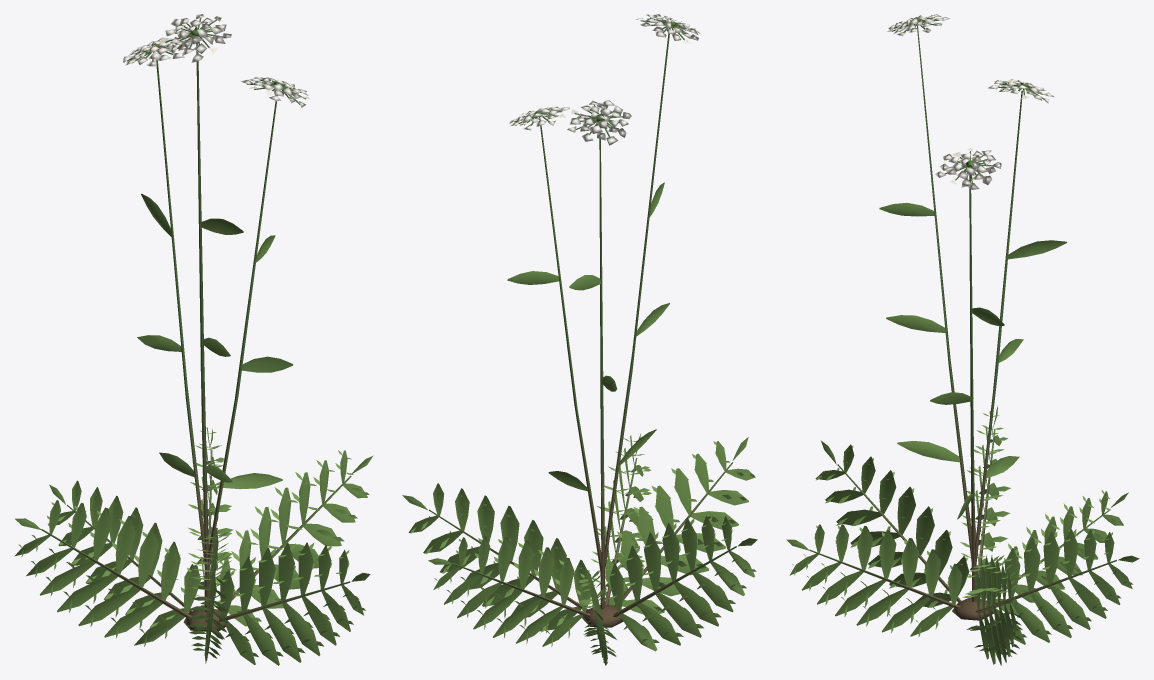
Rendered from Yarrow_lod2.glb.
3 views of the same model, side by side, from view 1: azimuth 30°, elevation 25°; view 2: azimuth 150°, elevation 25°; view 3: azimuth 270°, elevation 25° (orthographic). The views are drawn at different scales.
Visible parts, largest first — view 1: Plant_LOD2; view 2: Plant_LOD2; view 3: Plant_LOD2.
Boxes of the visible parts, x1,y1,x2,y2 form: Plant_LOD2: [14, 14, 373, 665]; Plant_LOD2: [402, 14, 757, 665]; Plant_LOD2: [786, 14, 1139, 665].
Size of the model in its own units: 0.4032 by 0.679 by 0.3642.
